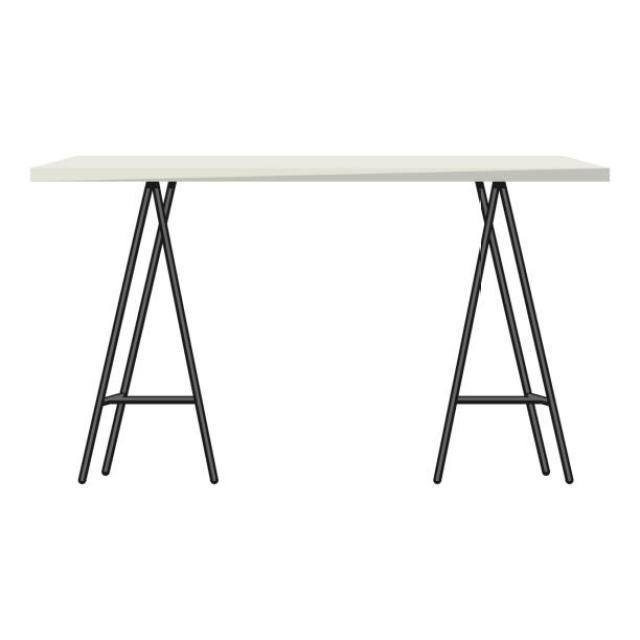table: (28, 154, 611, 486)
